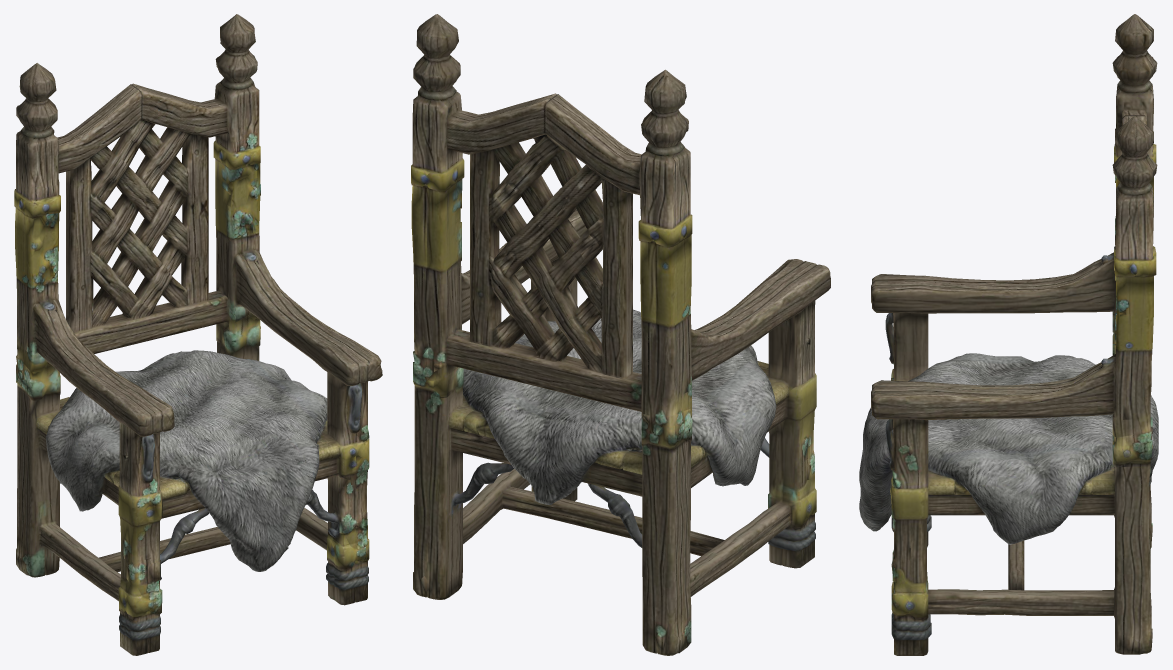
Rendered from lm_high_seat.glb.
3 renders of one model, left to right at view 1: azimuth 30°, elevation 25°; view 2: azimuth 150°, elevation 25°; view 3: azimuth 270°, elevation 25°, orthographic. The views are drawn at different scales.
Visible parts, largest first — view 1: lm_high_seat-convcol; view 2: lm_high_seat-convcol; view 3: lm_high_seat-convcol.
Boxes of the visible parts, x1,y1,x2,y2 form: lm_high_seat-convcol: [14, 14, 382, 655]; lm_high_seat-convcol: [411, 14, 830, 655]; lm_high_seat-convcol: [859, 14, 1158, 655].
Size of the model in its own units: 1.28 by 2.5 by 1.28.
1 material, 1 textured.
